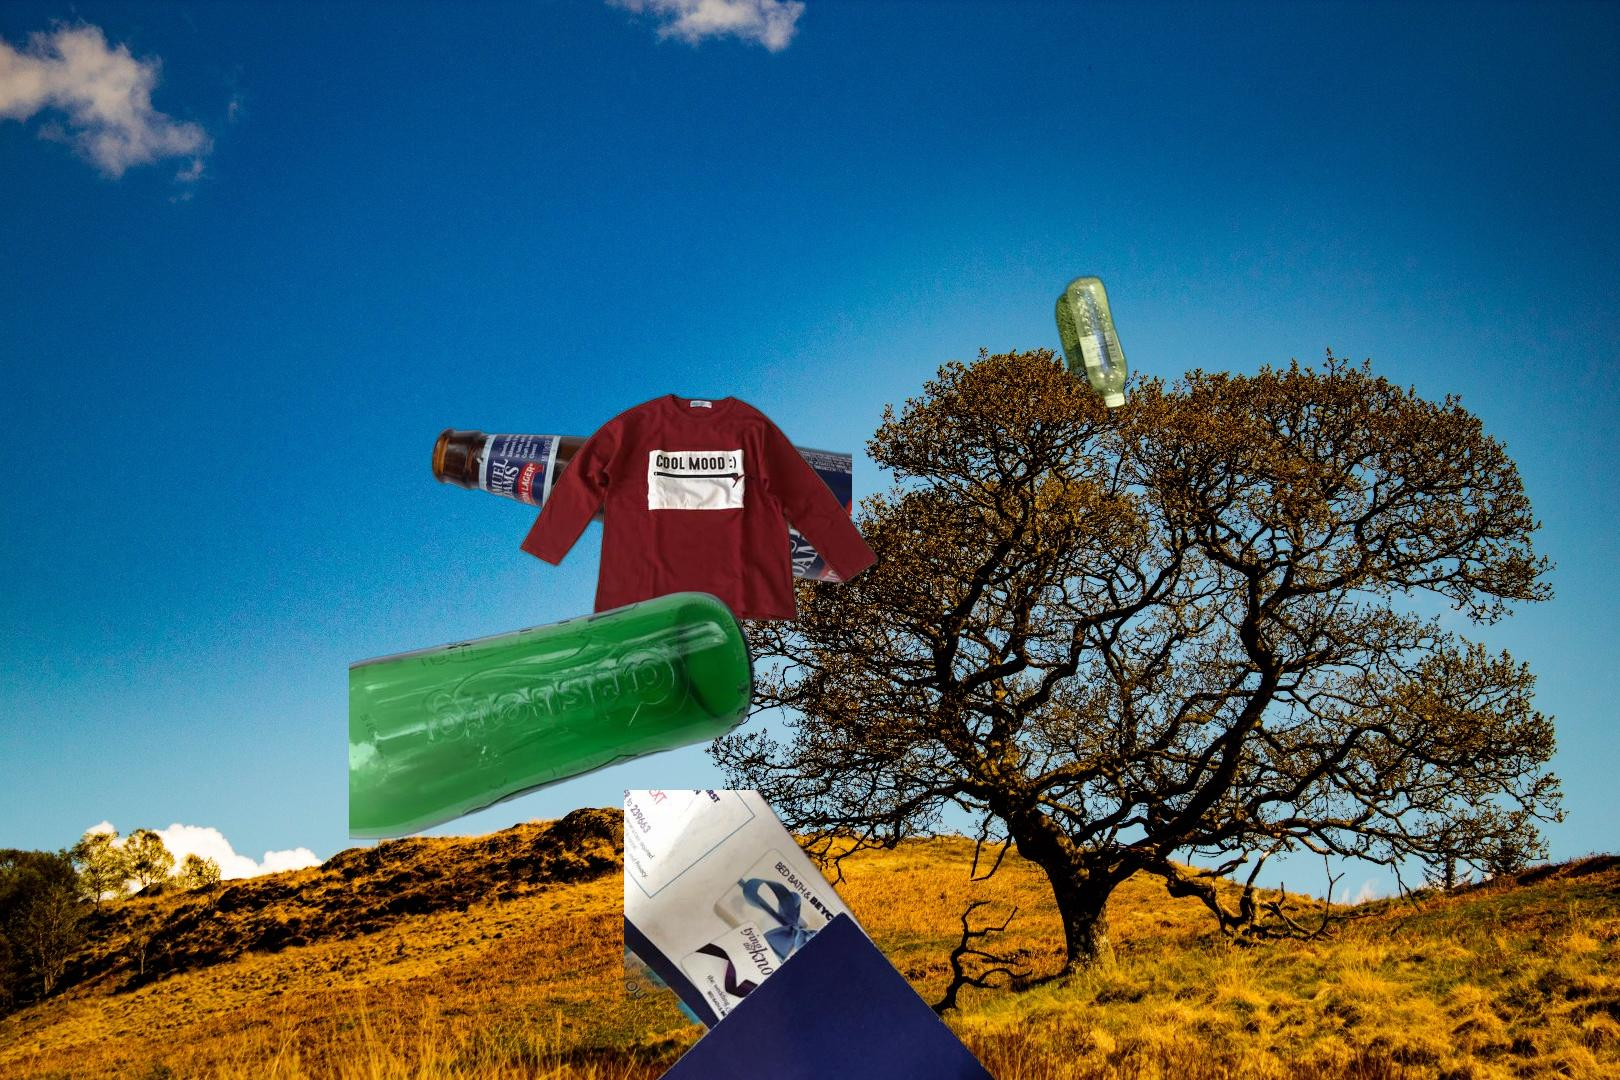clothes: (516, 389, 884, 626)
glass: (350, 588, 759, 843), (428, 425, 852, 586)
paper: (624, 790, 1015, 1080)
plastic-bottles: (1051, 270, 1132, 422)
